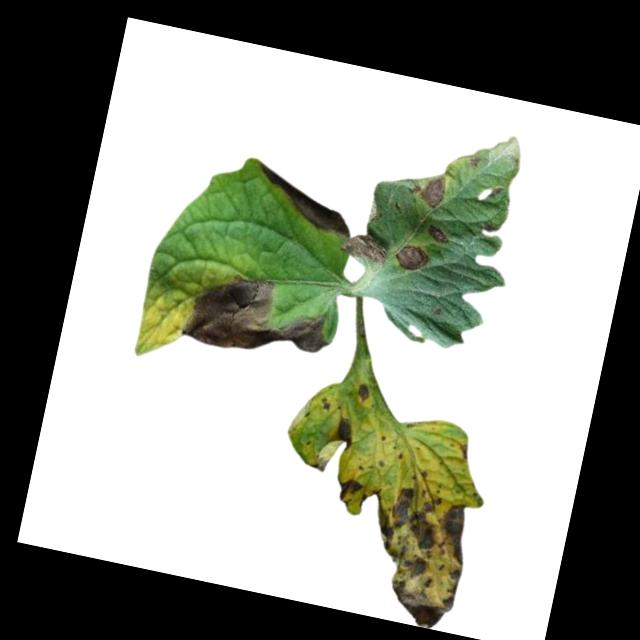Early_blight: (346, 479, 475, 632), (180, 261, 340, 368), (248, 159, 362, 238), (338, 227, 390, 268), (405, 167, 449, 211), (391, 240, 431, 273), (325, 412, 357, 450), (332, 476, 364, 505), (424, 221, 452, 246), (353, 380, 371, 403), (466, 151, 482, 169), (457, 440, 471, 459)
